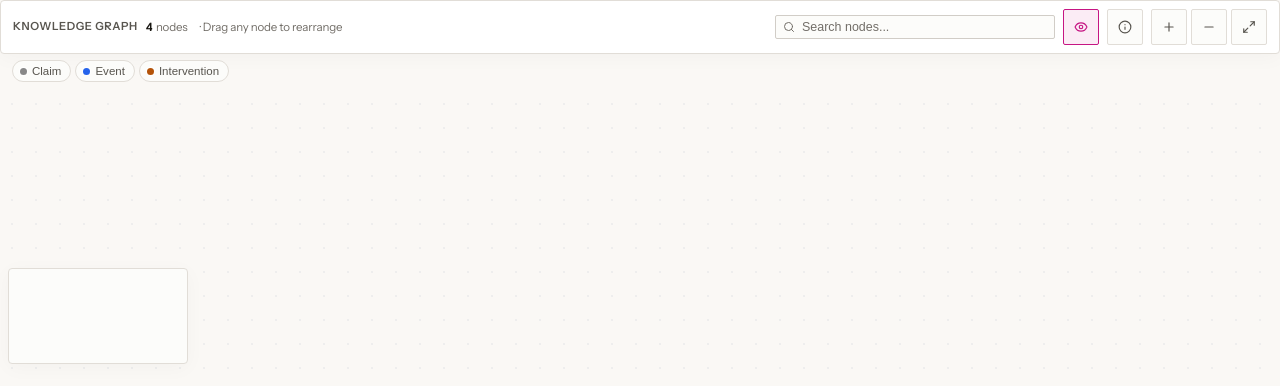
Test: KGGraphBoard › sr-only table contains visible graph nodes
Type "Node 1" into the search field with test id "kg-graph-board-search" at (915, 27), box [775, 15, 1055, 39]
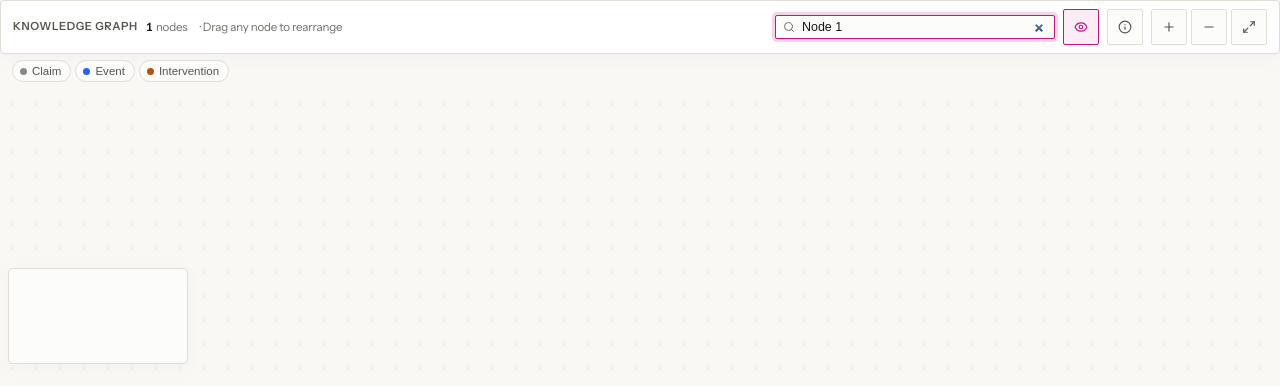
expect the text "Node 1" is shown: met, box [88, 54, 161, 80]
expect the number of rows is 2: met, box [1, 27, 237, 52]; [1, 54, 237, 80]
